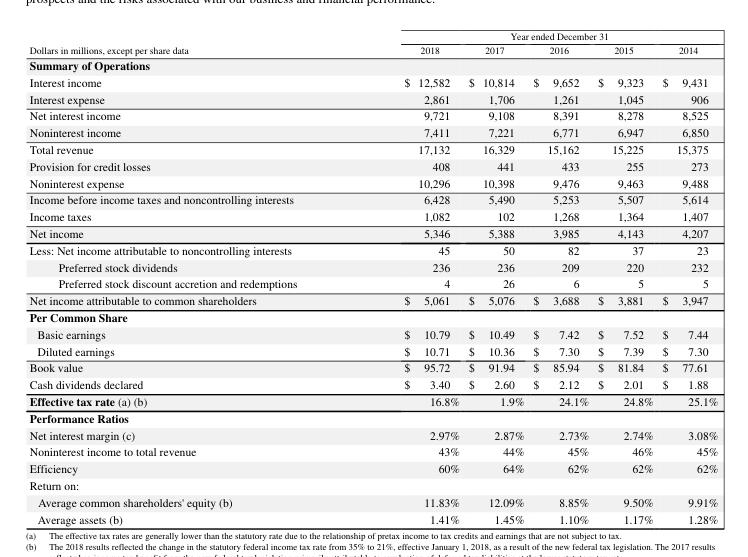table: (28, 29, 717, 525)
table column: (28, 29, 349, 525), (349, 29, 463, 525), (463, 29, 528, 525), (592, 29, 657, 525), (528, 29, 592, 525), (657, 29, 717, 525)
table column header: (28, 29, 717, 56)
table projected row header: (28, 56, 717, 73), (28, 308, 717, 325), (28, 409, 717, 425), (28, 476, 717, 492)
table row: (28, 391, 717, 409), (28, 56, 717, 73), (28, 89, 717, 106), (28, 106, 717, 123), (28, 123, 717, 140), (28, 156, 717, 173), (28, 173, 717, 190), (28, 190, 717, 207), (28, 207, 717, 224), (28, 240, 717, 257), (28, 257, 717, 274), (28, 274, 717, 291), (28, 291, 717, 308), (28, 308, 717, 325), (28, 341, 717, 358), (28, 358, 717, 375), (28, 425, 717, 442), (28, 442, 717, 459), (28, 459, 717, 476), (28, 492, 717, 509), (28, 73, 717, 89), (28, 140, 717, 156), (28, 224, 717, 240), (28, 325, 717, 341), (28, 375, 717, 391), (28, 409, 717, 425), (28, 476, 717, 492), (28, 509, 717, 525), (28, 42, 717, 56), (28, 29, 717, 42)
table spanning cell: (28, 29, 349, 56), (349, 29, 717, 42)
